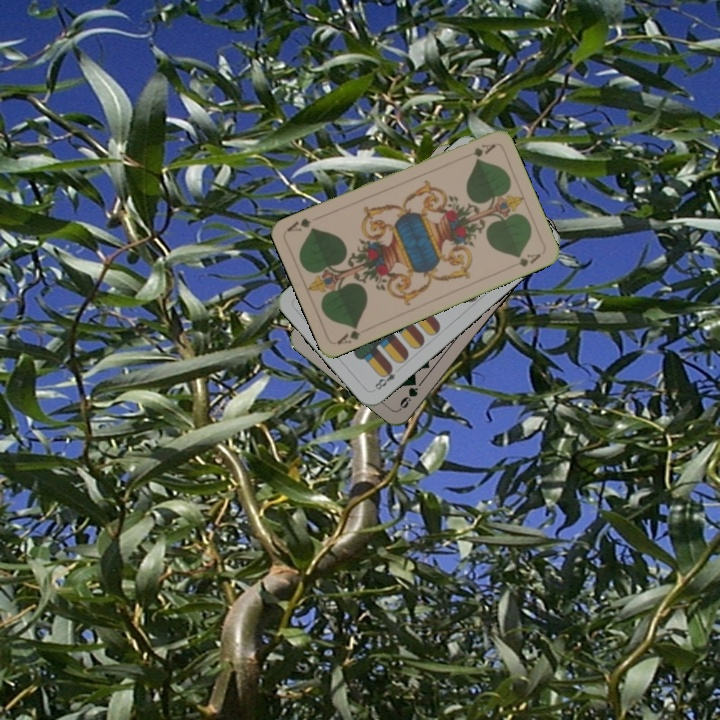E8: (371, 362, 398, 393)
G9: (396, 383, 421, 412)
GA: (333, 321, 363, 347), (469, 139, 498, 160)
